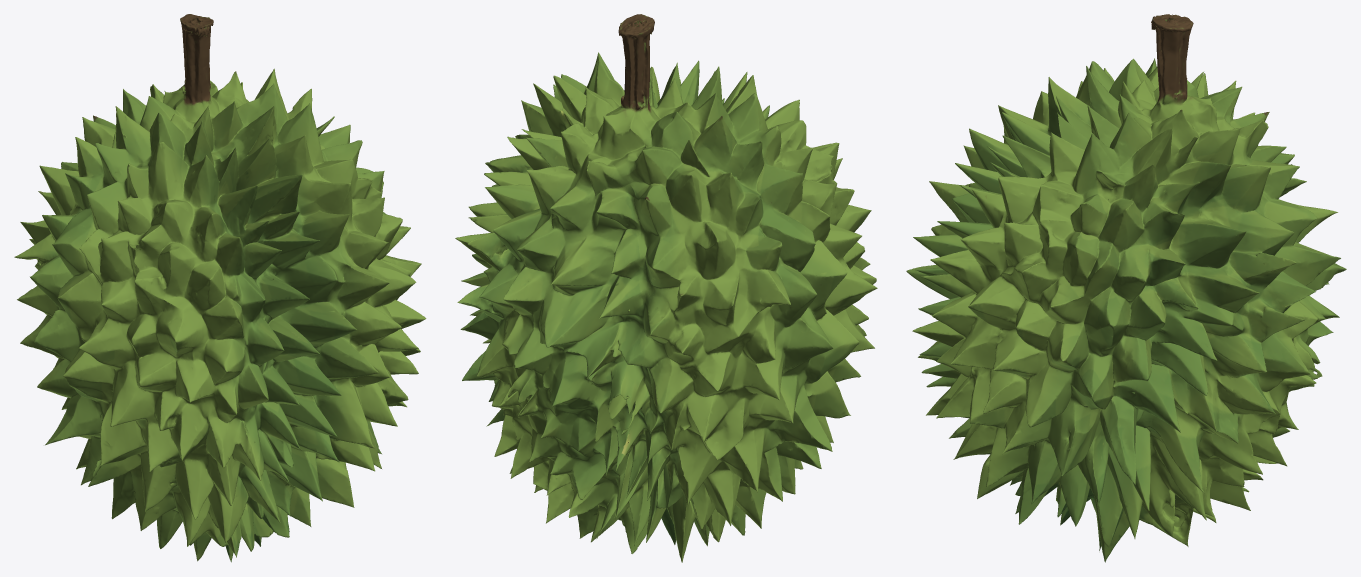
Rendered from bigger-durian.glb.
3 views of the same model, side by side, from view 1: azimuth 30°, elevation 25°; view 2: azimuth 150°, elevation 25°; view 3: azimuth 270°, elevation 25° (orthographic). The views are drawn at different scales.
Visible parts, largest first — view 1: node_id4; view 2: node_id4; view 3: node_id4.
Part boxes in pixels (bbox=[...]): node_id4: bbox=[14, 14, 426, 562]; node_id4: bbox=[455, 14, 877, 562]; node_id4: bbox=[906, 14, 1346, 562].
Size of the model in its own units: 3.02 by 4.33 by 3.23.
Materials: 1 (1 with a texture image).
